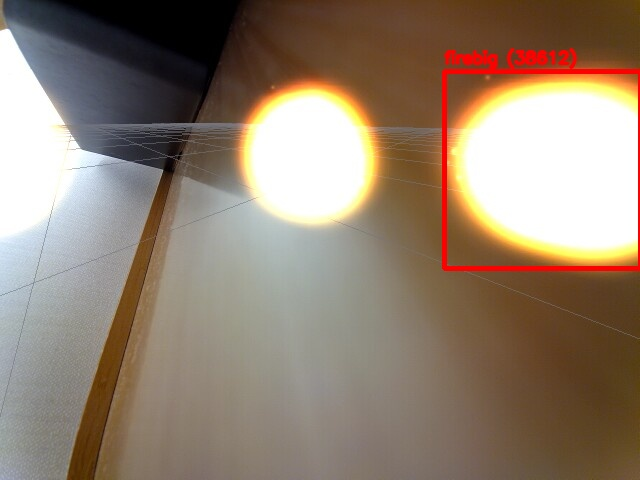firebig: (444, 71, 640, 268)
